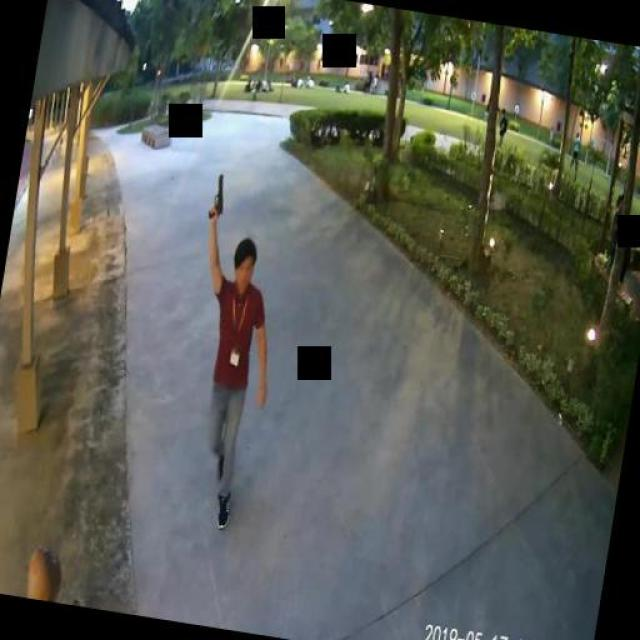gun: (206, 171, 228, 220)
